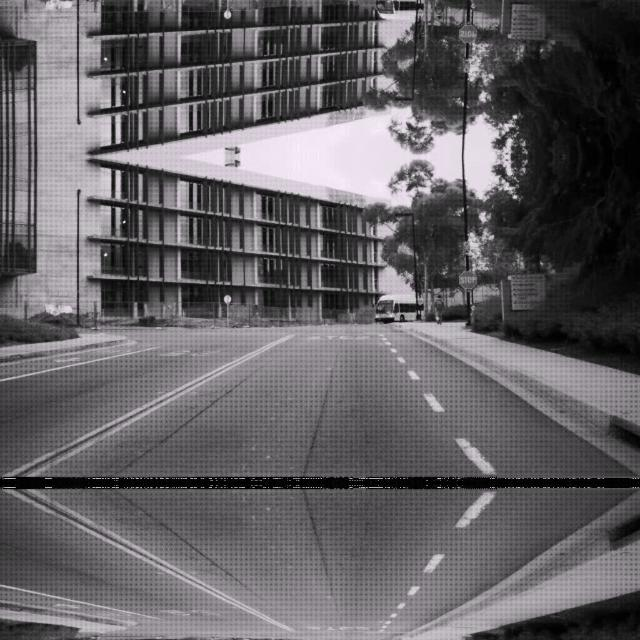stop: (458, 268, 478, 288), (458, 24, 478, 44)
